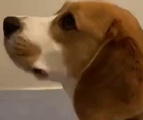Dog: (5, 6, 136, 96)
